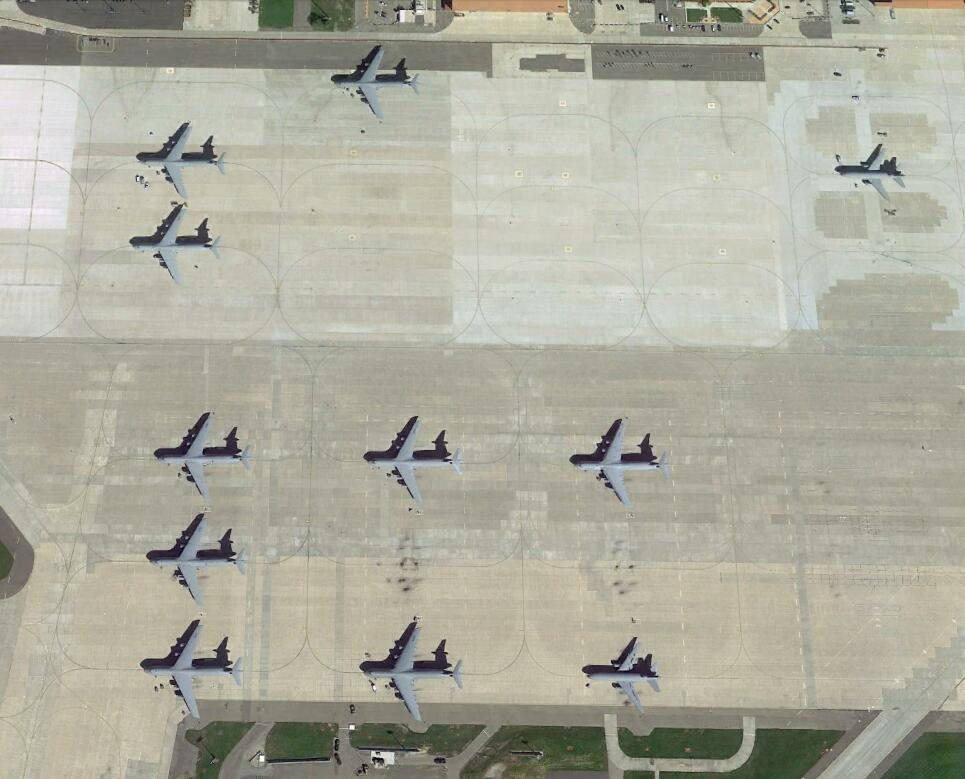A18: (584, 640, 664, 715), (833, 143, 907, 205)
A4: (359, 627, 466, 725), (141, 623, 246, 721), (147, 511, 249, 603), (155, 412, 252, 500), (573, 418, 670, 505), (367, 419, 463, 502), (331, 44, 424, 123), (130, 208, 223, 284), (137, 124, 228, 200)
